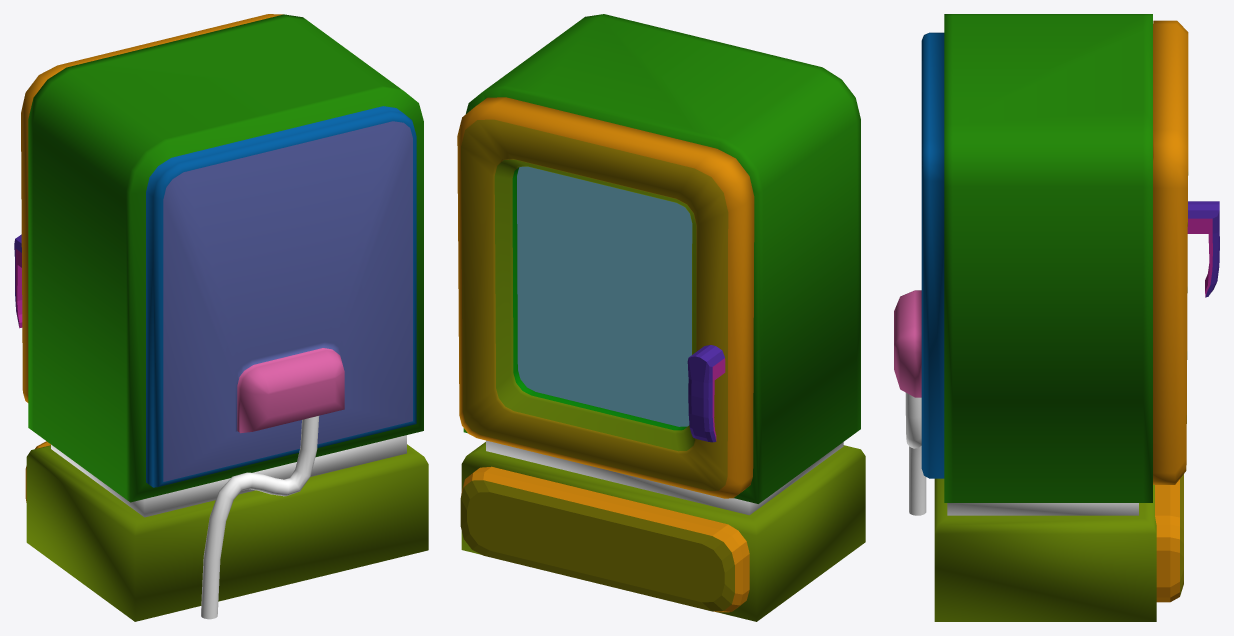
The model's file is Provider - Milk.fbx.
The picture shows the model from 3 angles, left to right: view 1: azimuth 30°, elevation 25°; view 2: azimuth 150°, elevation 25°; view 3: azimuth 270°, elevation 25°; orthographic projection. The views are drawn at different scales.
Visible parts, largest first — view 1: Body, Wire, Door, Divider; view 2: Body, Door, Divider; view 3: Body, Door, Divider, Wire.
Boxes of the visible parts, x1=… form: Body: x1=25, y1=14, x2=428, y2=621; Wire: x1=201, y1=416, x2=319, y2=619; Door: x1=14, y1=14, x2=283, y2=402; Divider: x1=51, y1=435, x2=406, y2=517; Body: x1=460, y1=14, x2=865, y2=621; Door: x1=457, y1=97, x2=754, y2=498; Divider: x1=486, y1=440, x2=843, y2=515; Body: x1=894, y1=14, x2=1183, y2=621; Door: x1=1153, y1=20, x2=1219, y2=484; Divider: x1=947, y1=503, x2=1138, y2=515; Wire: x1=905, y1=393, x2=926, y2=515.
Size of the model in its own units: 79.47 by 122 by 74.56.
